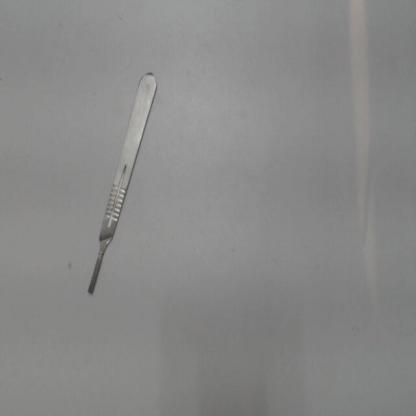No.4 BP Handle: (76, 69, 166, 306)
